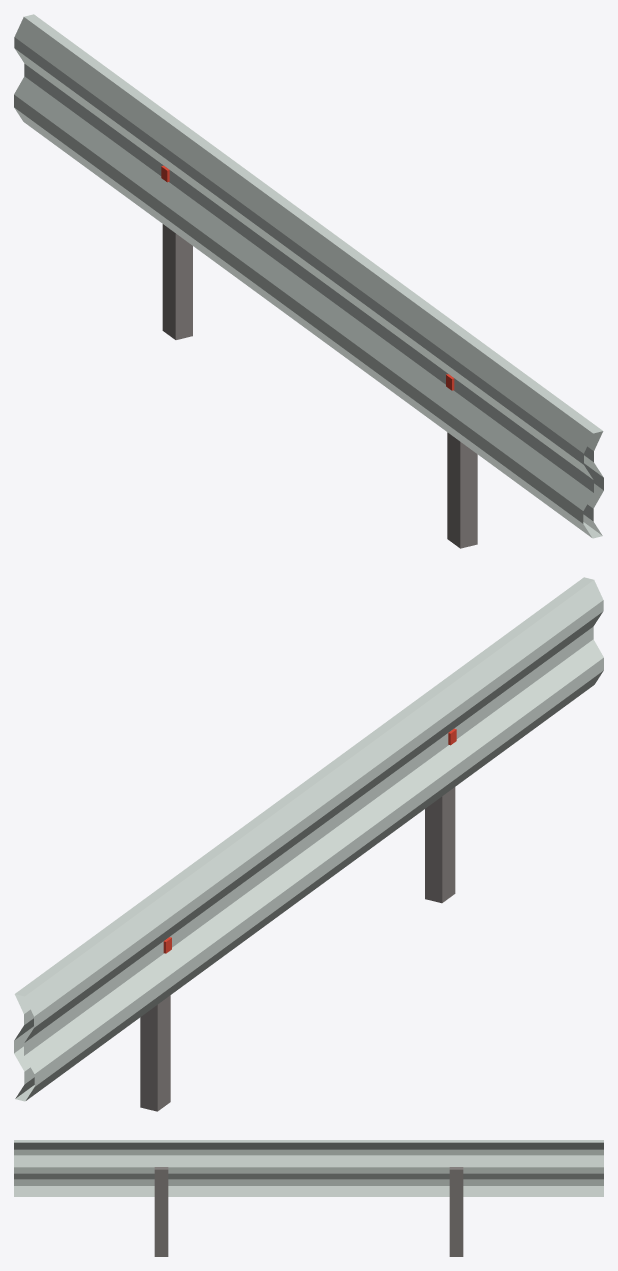
File: SM_Fencing_400.fbx
3 renders of one model, top to bottom at view 1: azimuth 30°, elevation 25°; view 2: azimuth 150°, elevation 25°; view 3: azimuth 270°, elevation 25°, orthographic. The views are drawn at different scales.
Parts seen in each view (by area): view 1: SM_Fencing_400; view 2: SM_Fencing_400; view 3: SM_Fencing_400.
Boxes of the visible parts, bbox=[...] form: SM_Fencing_400: bbox=[14, 14, 603, 548]; SM_Fencing_400: bbox=[14, 577, 603, 1111]; SM_Fencing_400: bbox=[14, 1140, 603, 1256].
Bounding box in the file's own units: 12.19 × 83.46 × 400.
